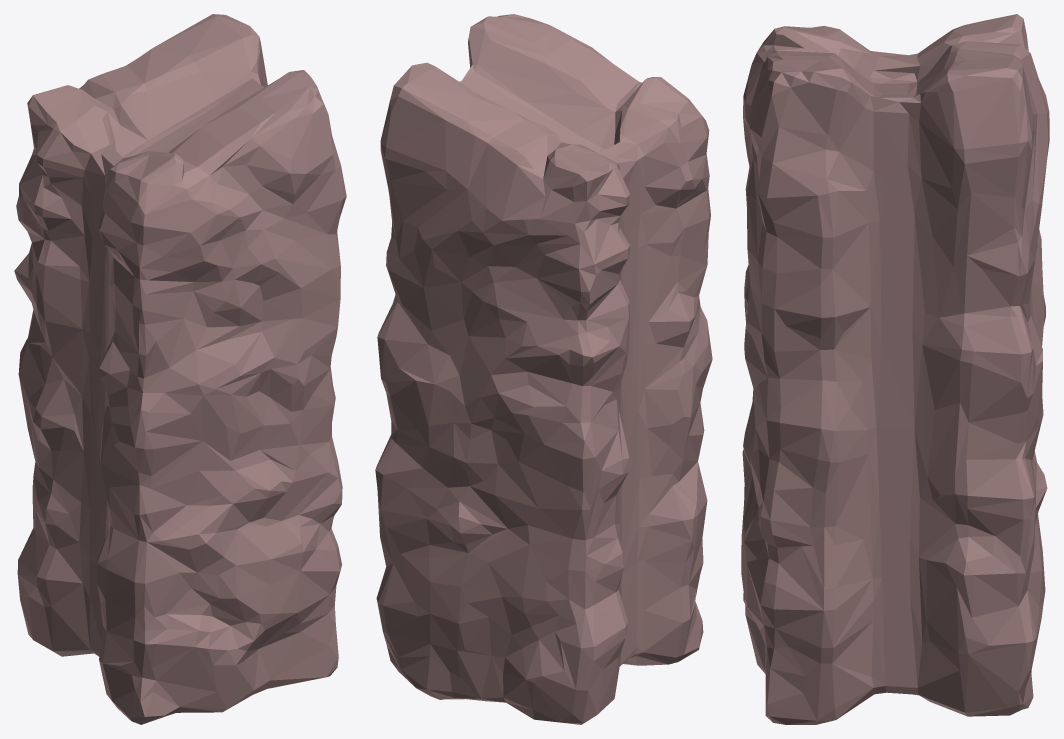
The model's file is rockEntranceR.fbx.
3 views of the same model, side by side, from view 1: azimuth 30°, elevation 25°; view 2: azimuth 150°, elevation 25°; view 3: azimuth 270°, elevation 25° (orthographic). The views are drawn at different scales.
Visible parts, largest first — view 1: ruins_Entrance_R; view 2: ruins_Entrance_R; view 3: ruins_Entrance_R.
Part boxes in pixels (x1=…): ruins_Entrance_R: x1=14, y1=14, x2=346, y2=724; ruins_Entrance_R: x1=375, y1=14, x2=712, y2=724; ruins_Entrance_R: x1=741, y1=14, x2=1049, y2=724.
Size of the model in its own units: 2.04 by 5.05 by 2.11.
